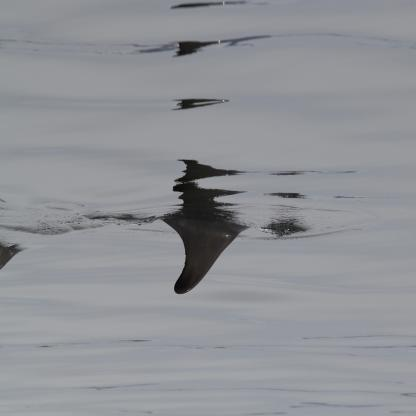dolphin-whale: (162, 214, 249, 300)
